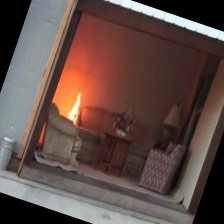fire: (57, 83, 92, 132)
